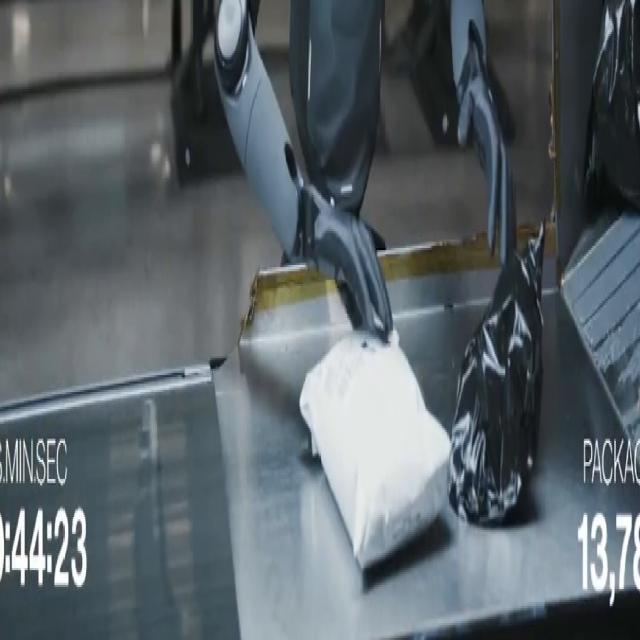package: (300, 331, 450, 570), (449, 223, 544, 525), (585, 0, 639, 209)
